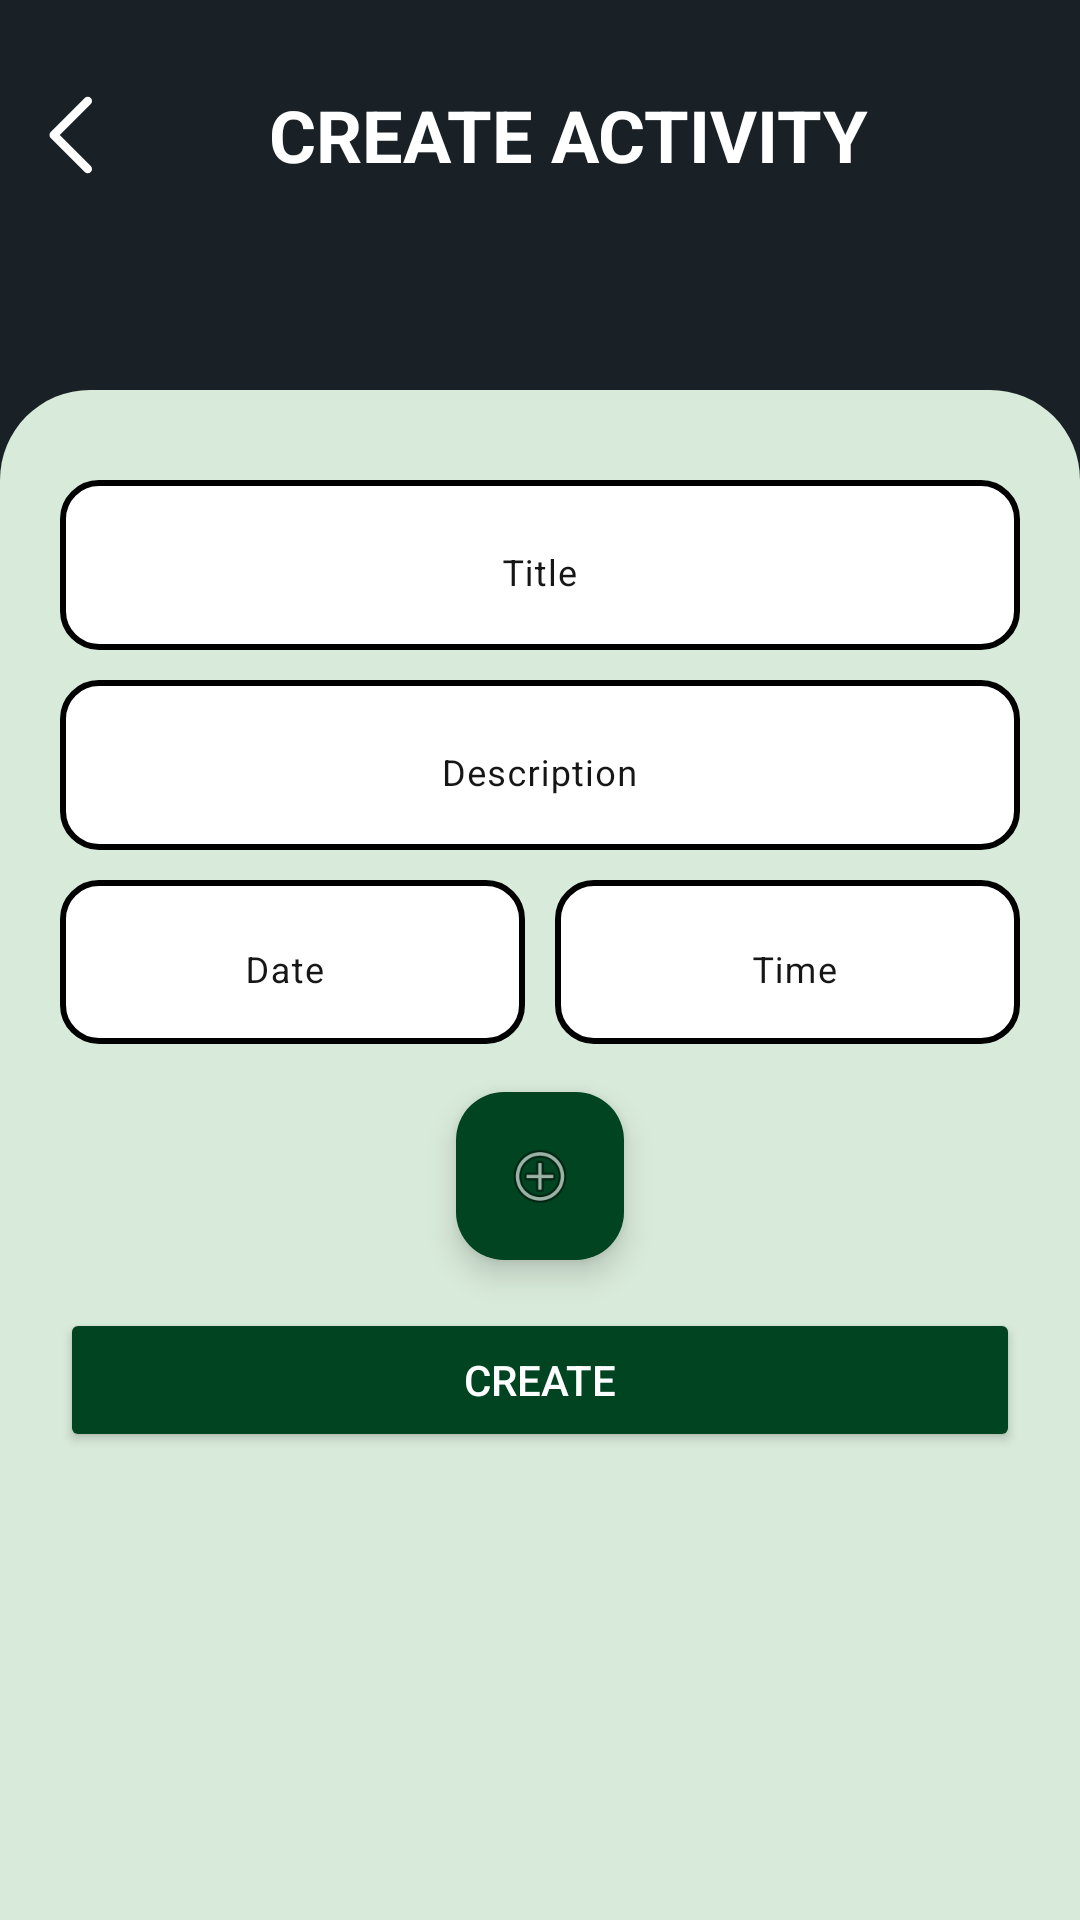

Icons on this 1080×1920 Android screen, each with the point to tap as point (x, y):
add: point (540, 1176)
Back: point (70, 135)
